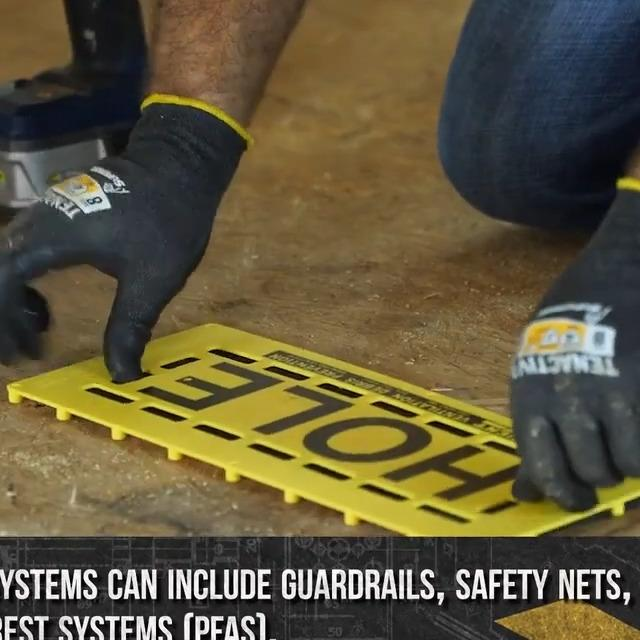Gloves: (0, 95, 251, 378), (504, 177, 640, 501)
Person: (0, 0, 640, 511)
